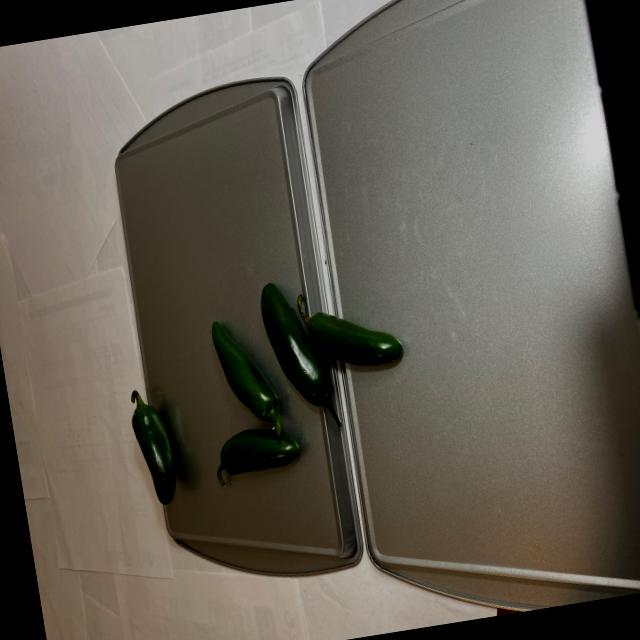chilli: (115, 260, 426, 518)
